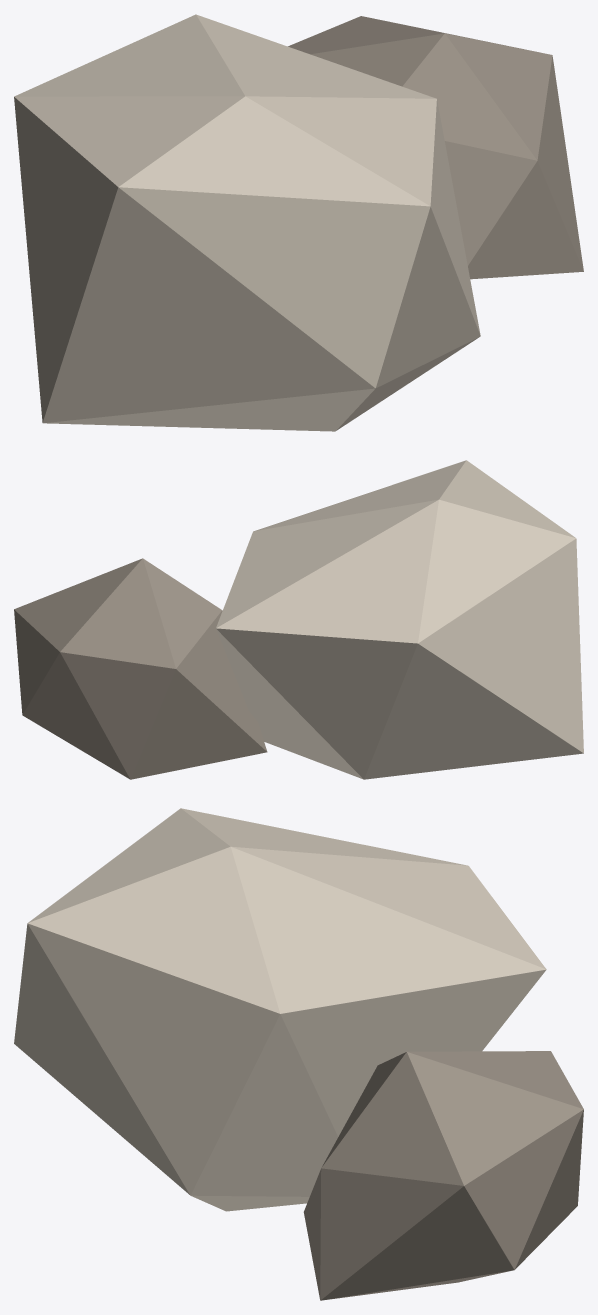
File: prop_rock_cluster.glb
The picture shows the model from 3 angles, top to bottom: view 1: azimuth 30°, elevation 25°; view 2: azimuth 150°, elevation 25°; view 3: azimuth 270°, elevation 25°; orthographic projection. The views are drawn at different scales.
Parts seen in each view (by area): view 1: rockc_a, rockc_b; view 2: rockc_a, rockc_b; view 3: rockc_a, rockc_b.
Part boxes in pixels (x1,y1,x2,y2): rockc_a: [14, 14, 480, 431]; rockc_b: [288, 16, 583, 279]; rockc_a: [216, 460, 583, 779]; rockc_b: [14, 558, 267, 779]; rockc_a: [14, 808, 546, 1211]; rockc_b: [303, 1051, 583, 1300].
Bounding box in the file's own units: 0.7608 × 0.4086 × 0.6481.
